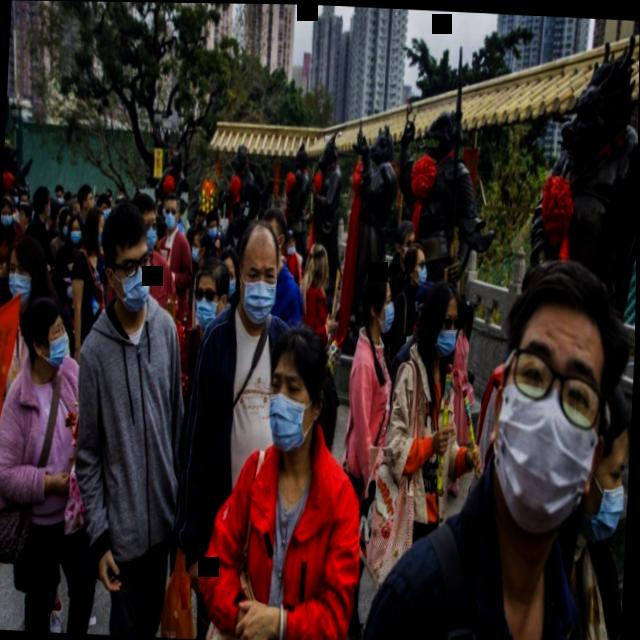Mask: (490, 249, 617, 532), (262, 314, 332, 459), (582, 372, 634, 551), (93, 193, 162, 321), (233, 213, 282, 330), (19, 287, 75, 376), (419, 272, 463, 363), (354, 260, 398, 345), (190, 248, 233, 334), (4, 230, 48, 306), (403, 238, 430, 292), (0, 185, 19, 236), (162, 187, 183, 233), (67, 208, 86, 250), (201, 205, 221, 242), (283, 220, 298, 259)
